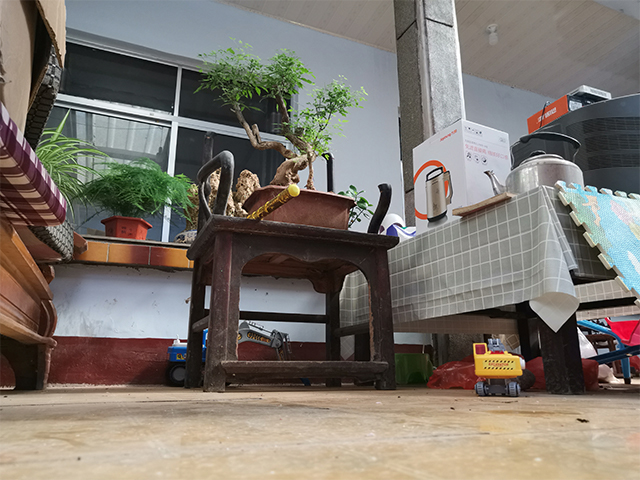stool: (183, 148, 402, 395)
table: (331, 181, 640, 398)
